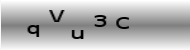3: (93, 14, 107, 27)
C: (115, 16, 131, 30)
V: (47, 8, 65, 22)
q: (26, 24, 40, 38)
u: (71, 28, 84, 41)
